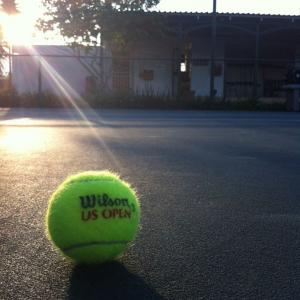TennisBall: (45, 169, 143, 263)
